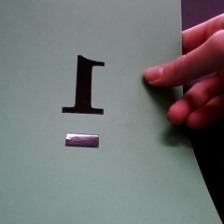green1: (54, 46, 121, 156)
